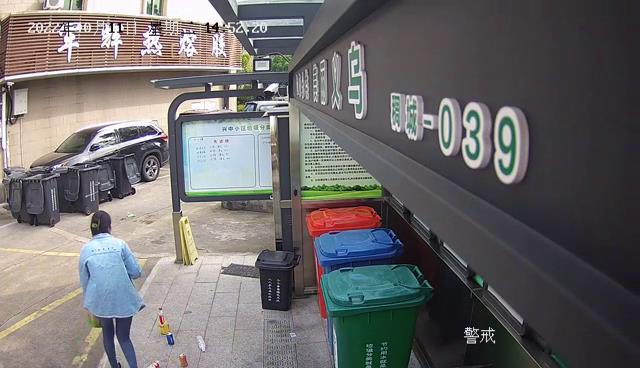lvzhipin: (178, 350, 187, 366), (166, 331, 174, 345)
suliaozhipin: (156, 306, 171, 335), (195, 334, 207, 353)
worker: (78, 210, 147, 368)
